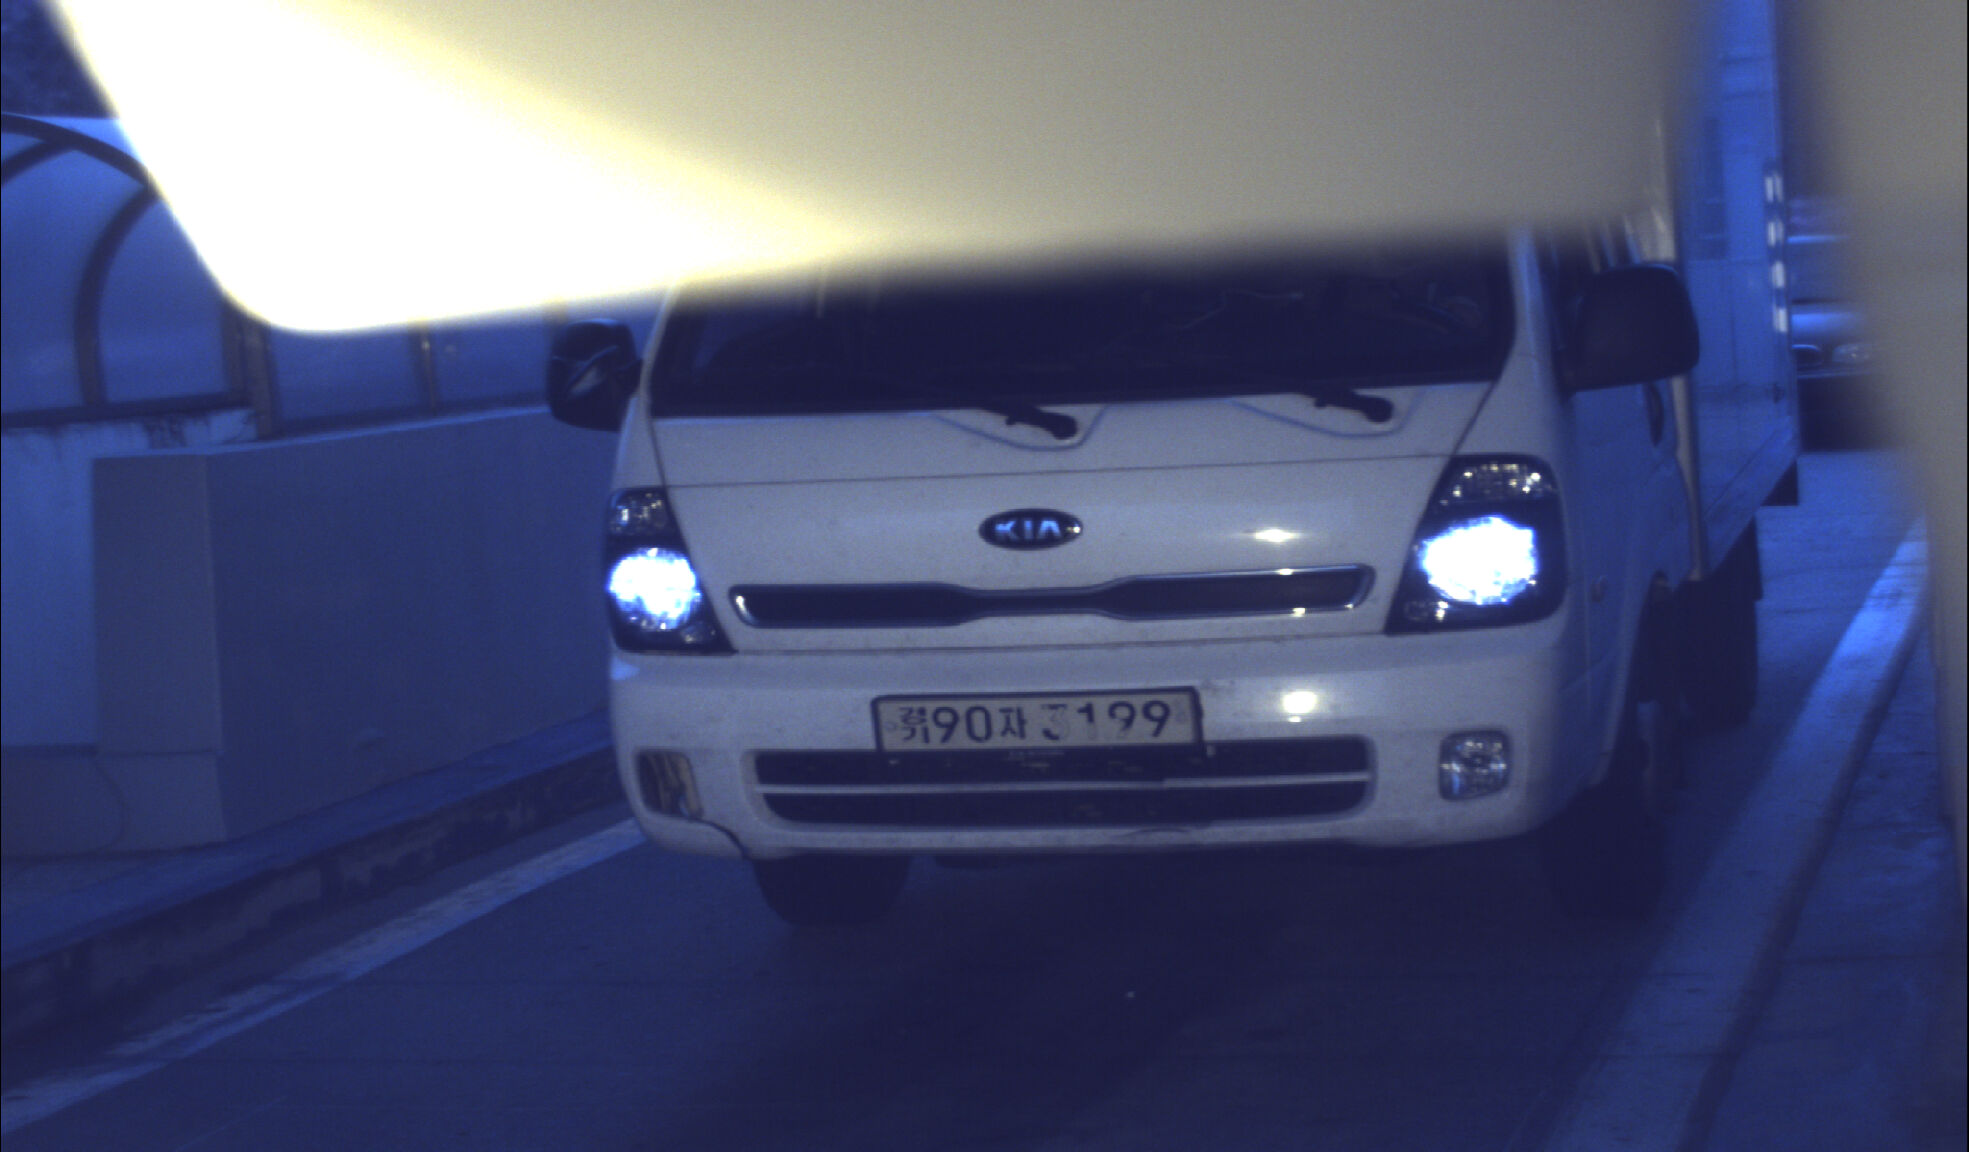car: (542, 1, 1806, 935)
plate: (863, 682, 1215, 763)
